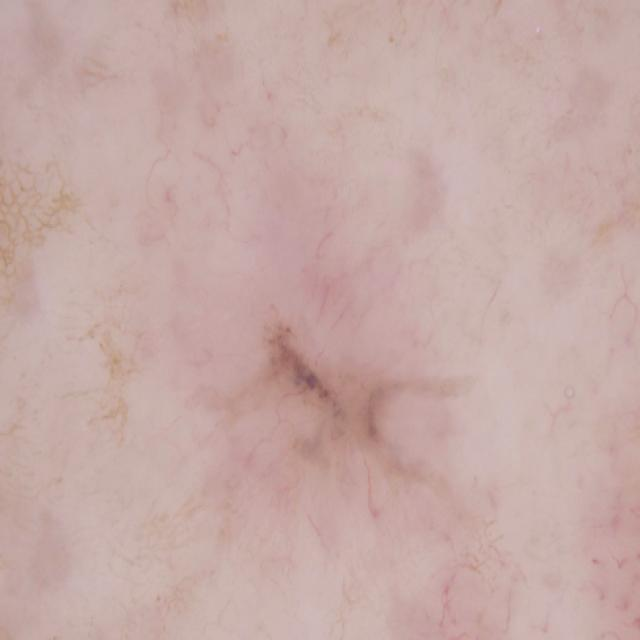Carcinoma: (189, 287, 506, 640)
